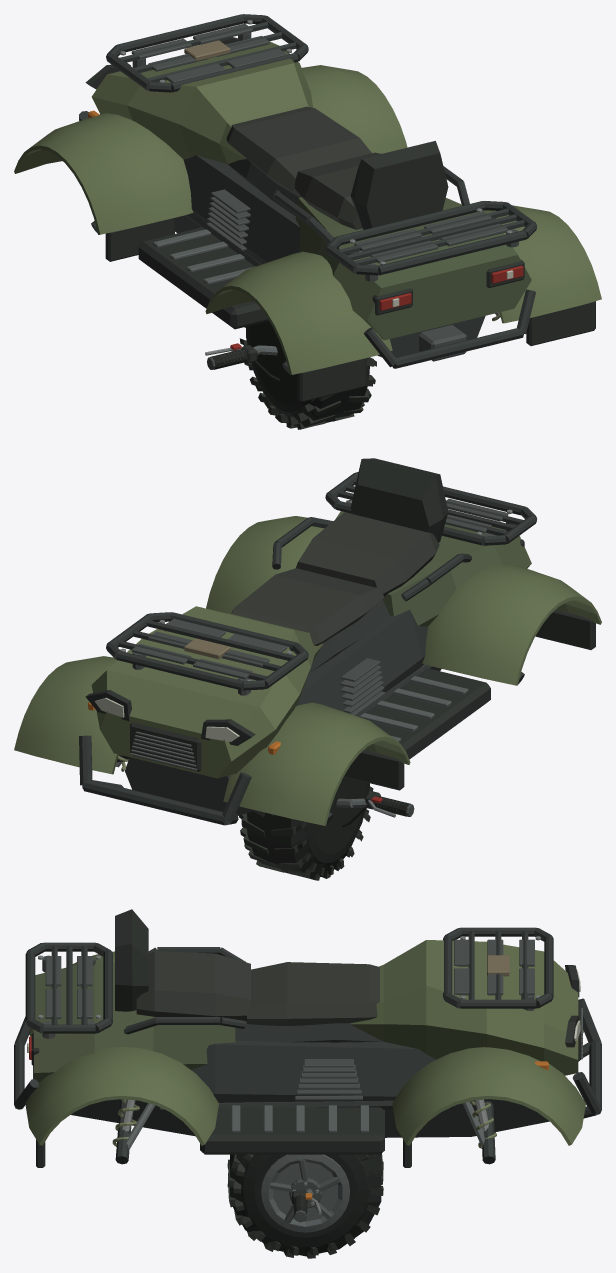
File: atv.glb
3 views of the same model, one above another, from view 1: azimuth 30°, elevation 25°; view 2: azimuth 150°, elevation 25°; view 3: azimuth 270°, elevation 25° (orthographic). The views are drawn at different scales.
Parts seen in each view (by area): view 1: Body, BodyDetail, Wheel, WheelLow, Controls, Badge; view 2: Body, BodyDetail, Wheel, WheelLow, Controls, Badge; view 3: Body, Wheel, BodyDetail, WheelLow, Badge, Controls.
Part boxes in pixels (left/top/right/bottom): Body: left=14, top=14, right=601, bottom=401; BodyDetail: left=88, top=20, right=513, bottom=361; Wheel: left=239, top=321, right=376, bottom=429; WheelLow: left=246, top=328, right=369, bottom=427; Controls: left=207, top=345, right=277, bottom=369; Badge: left=184, top=40, right=230, bottom=60; Body: left=14, top=458, right=601, bottom=825; BodyDetail: left=88, top=498, right=512, bottom=771; Wheel: left=239, top=777, right=373, bottom=880; WheelLow: left=246, top=783, right=369, bottom=879; Controls: left=336, top=791, right=414, bottom=816; Badge: left=184, top=638, right=230, bottom=659; Body: left=14, top=909, right=601, bottom=1167; Wheel: left=227, top=1153, right=383, bottom=1258; BodyDetail: left=27, top=936, right=582, bottom=1148; WheelLow: left=230, top=1154, right=381, bottom=1256; Badge: left=487, top=955, right=509, bottom=976; Controls: left=292, top=1188, right=313, bottom=1222.
Size of the model in its own units: 1.37 by 1.41 by 2.34.
